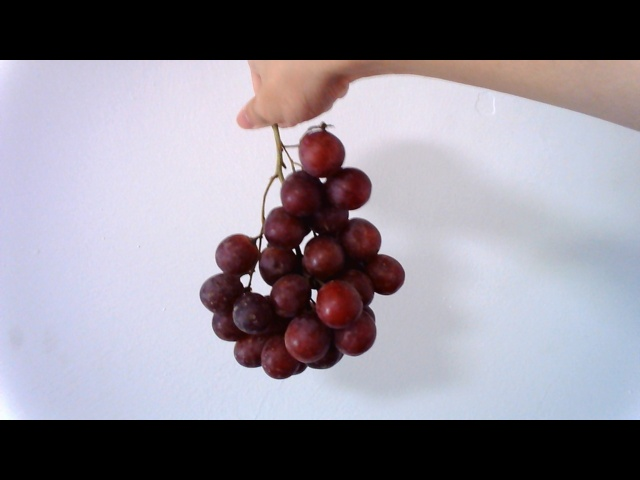grape: (195, 122, 410, 377)
